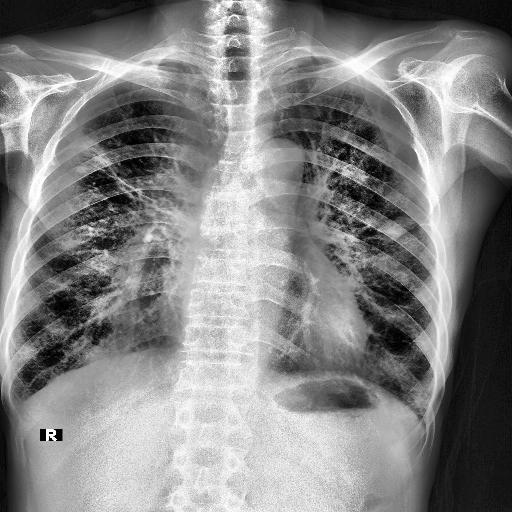0- Aortic enlargement: (242, 138, 304, 182)
11- Pleural thickening: (258, 54, 341, 74), (142, 56, 202, 72)
13- Pulmonary fibrosis: (73, 142, 203, 232), (72, 138, 196, 226), (74, 138, 172, 212), (374, 214, 420, 242)
5- ILD: (10, 209, 184, 406), (294, 222, 438, 418)
6- Infiltration: (375, 214, 418, 244)
7- Lung Opacity: (375, 214, 418, 244)
8- Nodule-Mass: (76, 164, 86, 176), (76, 166, 88, 174)
